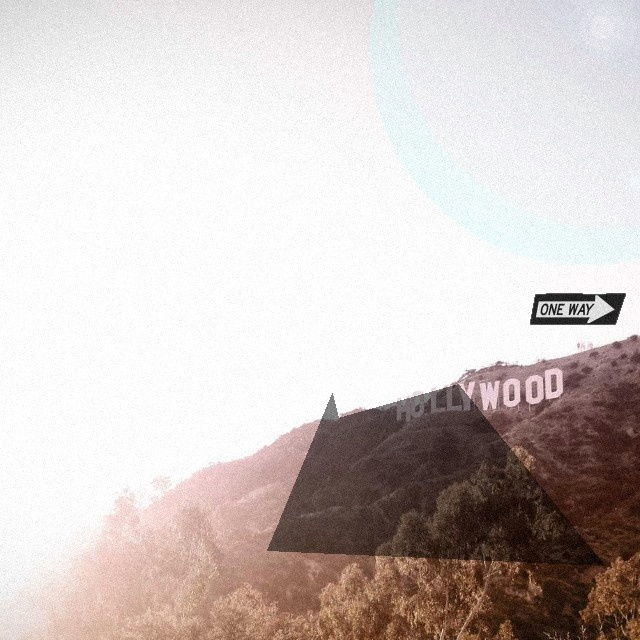ONE_WAY_ right: (529, 293, 626, 325)
